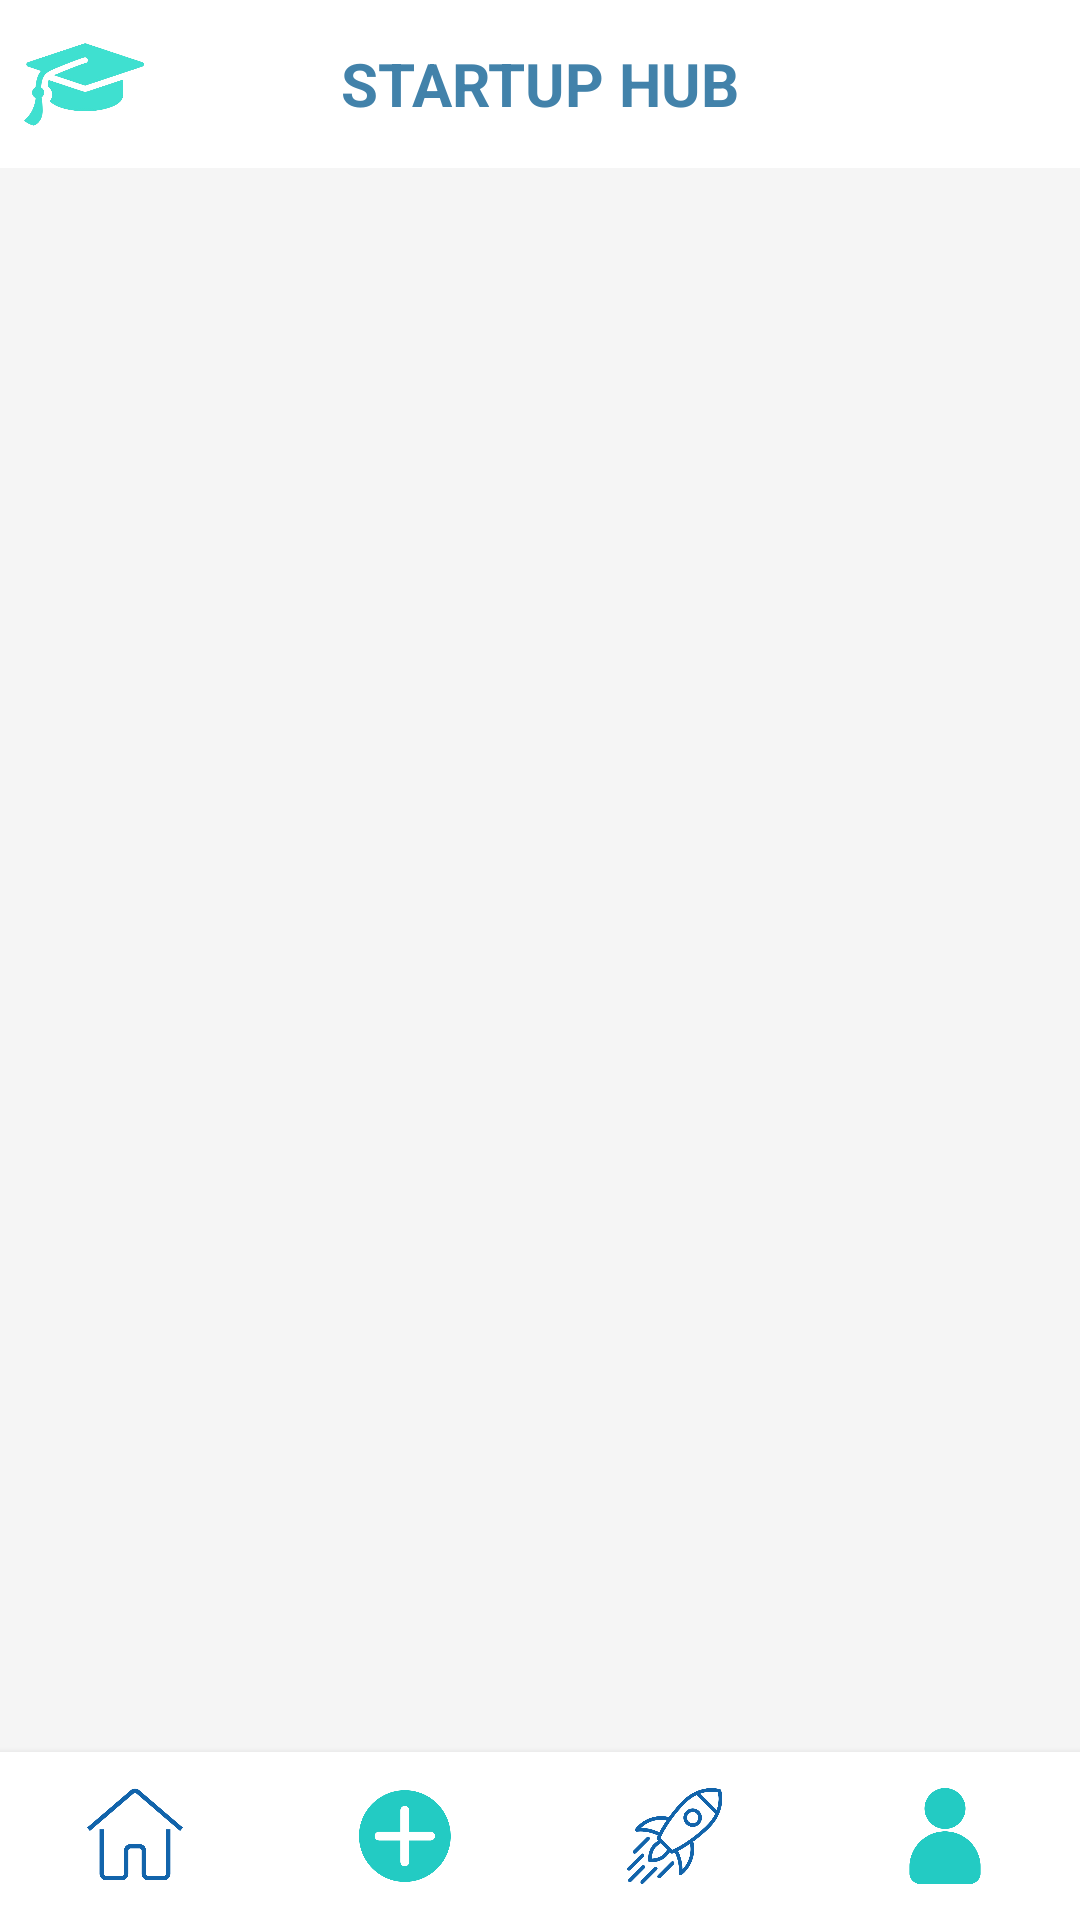

Icons on this 1080w x 1920h Android screen, each with its box as (x1, y1, x2, y2):
Add Icon: (359, 1790, 451, 1882)
